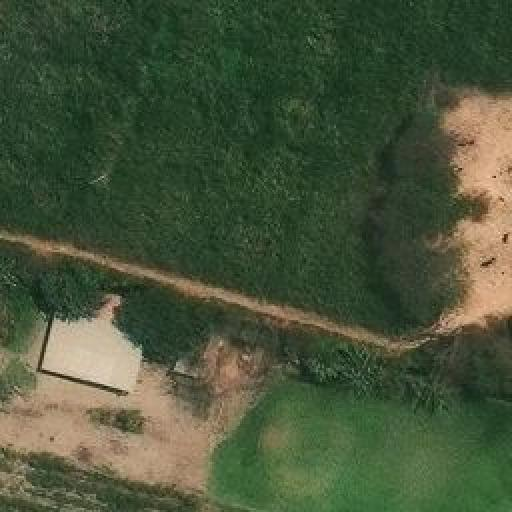manzanas: (36, 284, 151, 401)
